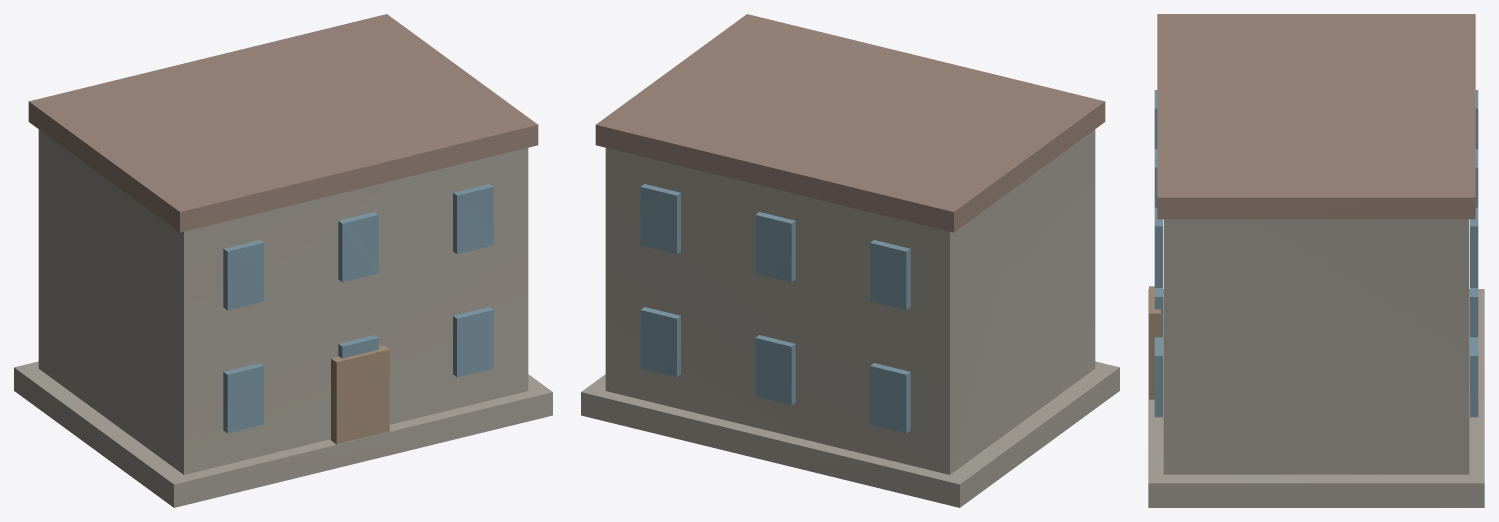
Rendered from warehouse-01.glb.
3 views of the same model, side by side, from view 1: azimuth 30°, elevation 25°; view 2: azimuth 150°, elevation 25°; view 3: azimuth 270°, elevation 25° (orthographic). The views are drawn at different scales.
Parts seen in each view (by area): view 1: world; view 2: world; view 3: world.
Boxes of the visible parts, box(x1,y1,x2,y2) form: world: box(14, 14, 552, 507); world: box(581, 14, 1119, 507); world: box(1148, 14, 1484, 507).
Bounding box in the file's own units: 1.35 × 0.99 × 0.99.
